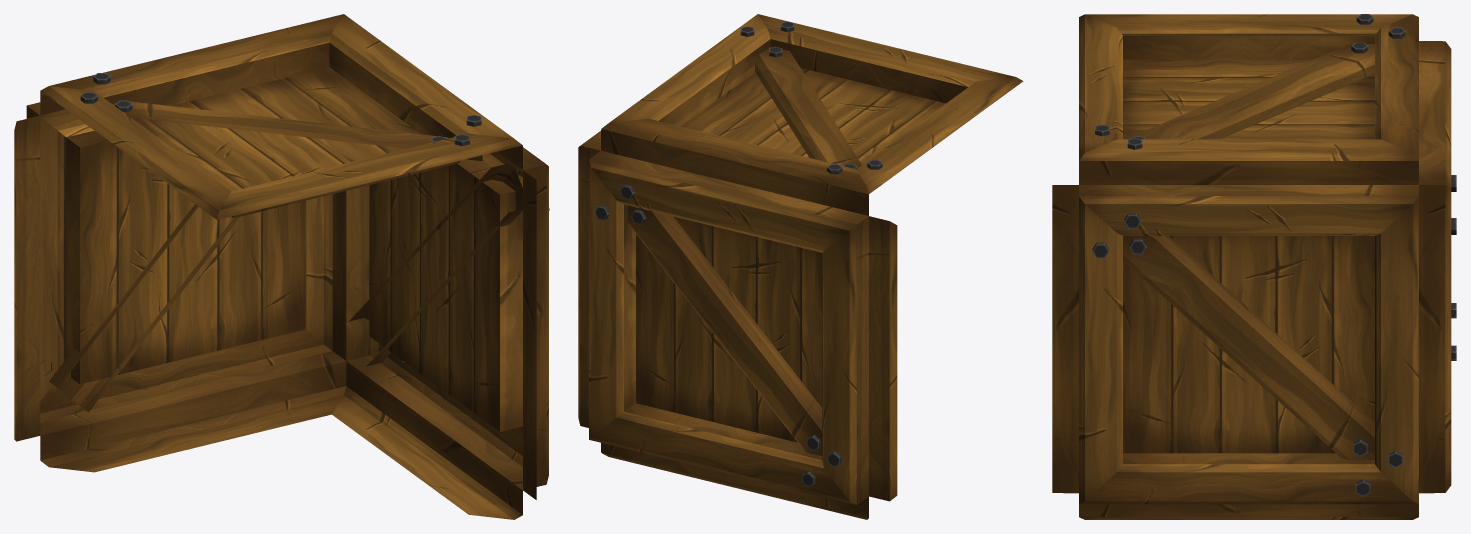
The model's file is LPCrate.fbx.
3 renders of one model, left to right at view 1: azimuth 30°, elevation 25°; view 2: azimuth 150°, elevation 25°; view 3: azimuth 270°, elevation 25°, orthographic. The views are drawn at different scales.
Parts seen in each view (by area): view 1: Crate02; view 2: Crate02; view 3: Crate02.
Part boxes in pixels (x1,y1,x2,y2): Crate02: (14, 14, 549, 519); Crate02: (578, 14, 1023, 519); Crate02: (1052, 14, 1456, 519).
Size of the model in its own units: 1.01 by 1.01 by 0.9907.
